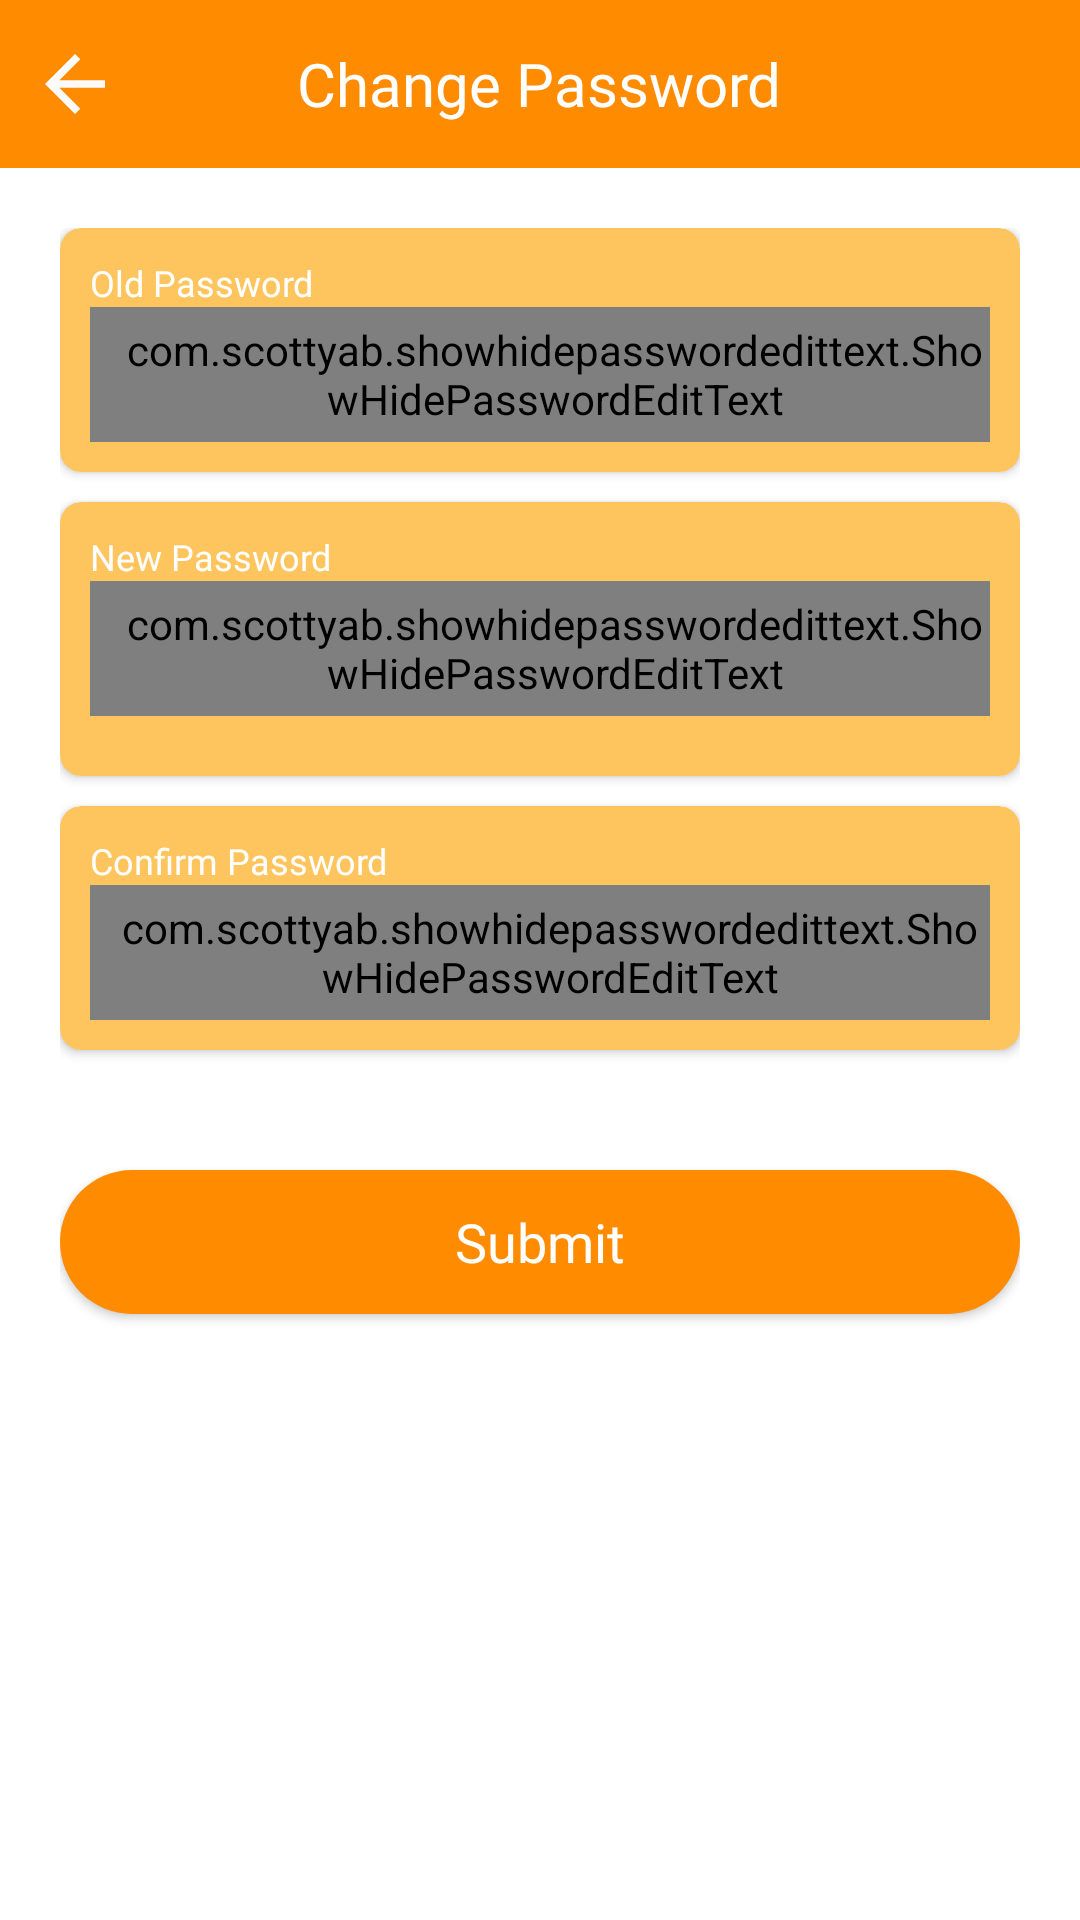

Icons on this 1080×1920 Android screen, each with its box as (x1, y1, x2, y2):
arrow back: (45, 54, 105, 114)
